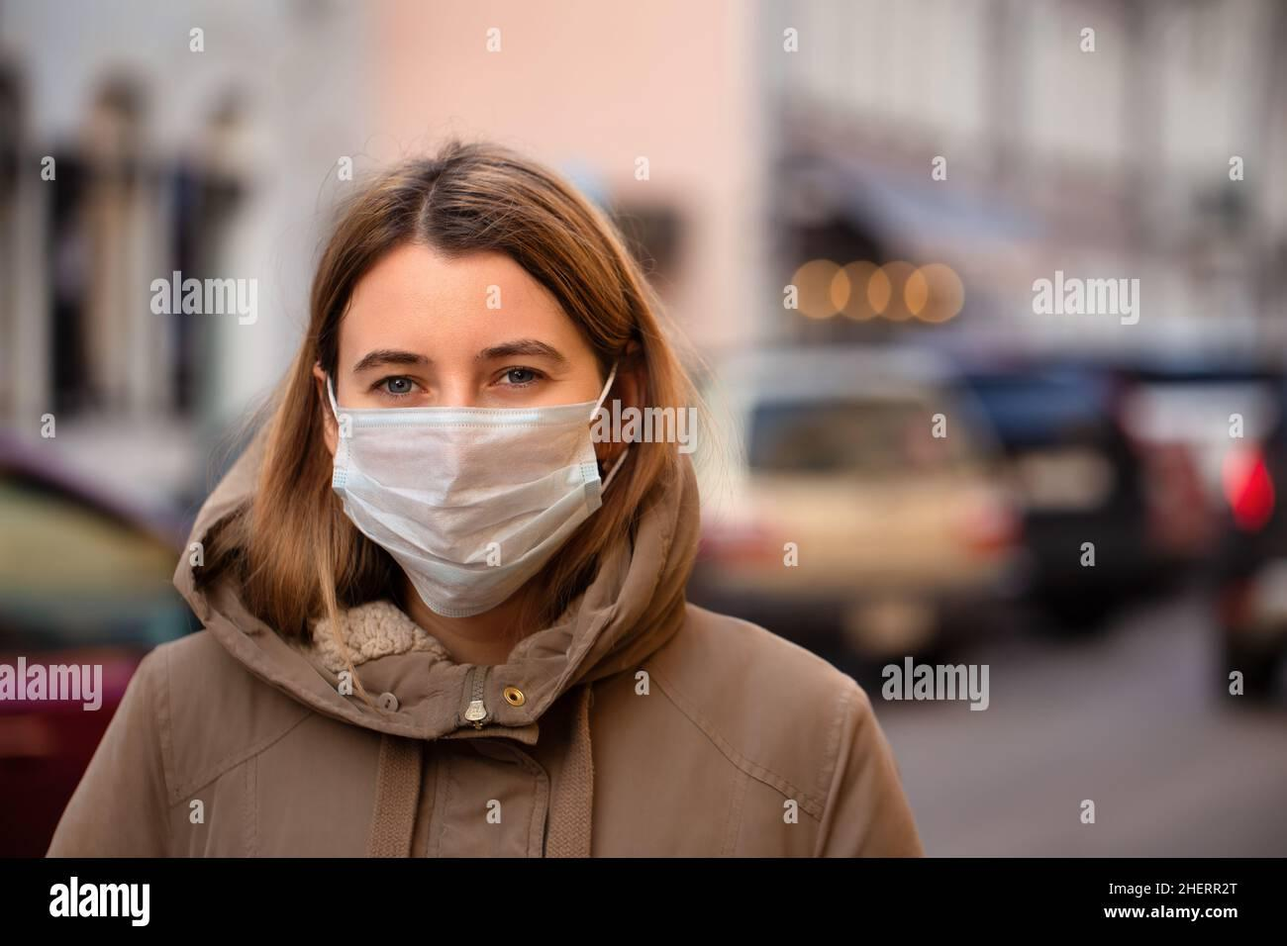mask: (320, 386, 634, 641)
